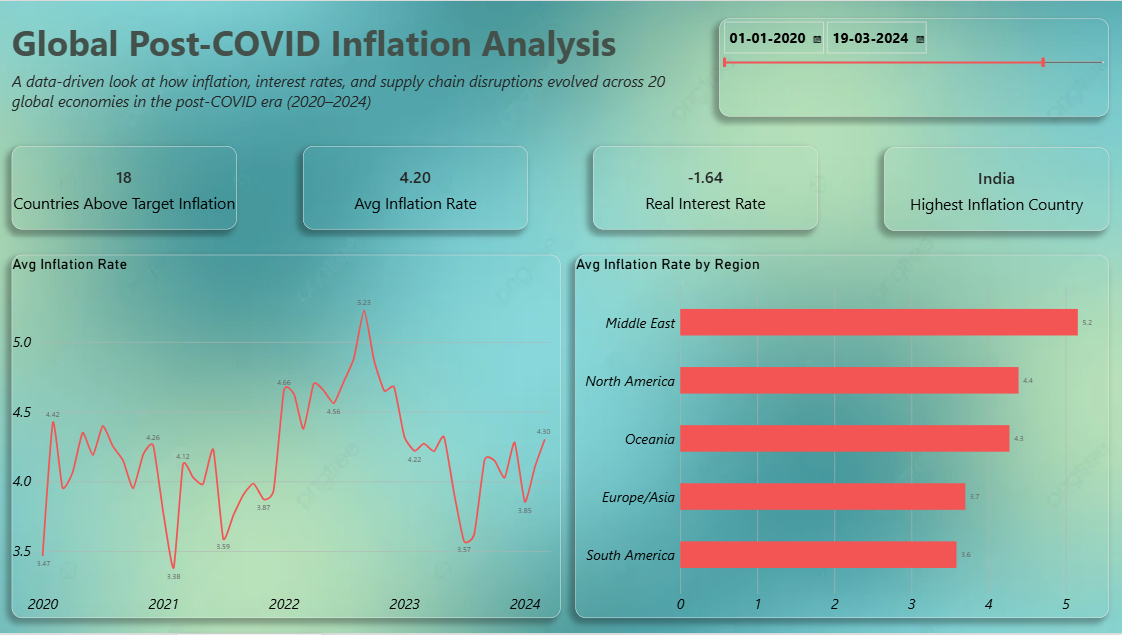

The page's visual inventory and layout, read from the dashboard file:
{"tool":"powerbi","page":{"name":"Executive Summary","canvas":[1920,1080],"ordinal":0},"visuals":[{"type":"textbox","title":"Global Post-COVID Inflation Analysis","box":[23.3,29.1,1320.7,87.3],"z":0},{"type":"slicer","fields":{"Values":["Dim_Date.Date"]},"box":[1230,30,665,167.5],"z":1000},{"type":"card","fields":{"Values":["_Measures.Avg Inflation Rate"]},"box":[519.8,247.3,384,142.5],"z":2000},{"type":"card","fields":{"Values":["_Measures.Highest Inflation Country"]},"box":[1512.7,250.2,384,142.5],"z":3000},{"type":"card","fields":{"Values":["_Measures.Real Interest Rate"]},"box":[1016.2,247.3,384,142.5],"z":4000},{"type":"card","fields":{"Values":["_Measures.Countries Above Target Inflation"]},"box":[23.3,247.3,384,142.5],"z":5000},{"type":"lineChart","title":"Avg Inflation Rate","fields":{"Category":["Dim_Date.Date"],"Y":["_Measures.Avg Inflation Rate"]},"box":[23.3,433.5,936.7,619.6],"z":6000},{"type":"clusteredBarChart","fields":{"Category":["Dim_Country.Region"],"Y":["_Measures.Avg Inflation Rate"]},"box":[986.2,433.5,910.5,619.6],"z":7000},{"type":"textbox","box":[23.5,117.3,1184,81.1],"z":8000}]}

Visuals, with their boxes in screenshot pixels (x1, y1, x2, y2), scaled from the page's 1920x1080 canvas onto the 1122x635 screenshot:
"Global Post-COVID Inflation Analysis" textbox: (left=14, top=17, right=785, bottom=68)
slicer - Dim_Date.Date: (left=719, top=18, right=1107, bottom=116)
card - _Measures.Avg Inflation Rate: (left=304, top=145, right=528, bottom=229)
card - _Measures.Highest Inflation Country: (left=884, top=147, right=1108, bottom=231)
card - _Measures.Real Interest Rate: (left=594, top=145, right=818, bottom=229)
card - _Measures.Countries Above Target Inflation: (left=14, top=145, right=238, bottom=229)
"Avg Inflation Rate" lineChart: (left=14, top=255, right=561, bottom=619)
clusteredBarChart - Dim_Country.Region x _Measures.Avg Inflation Rate: (left=576, top=255, right=1108, bottom=619)
textbox: (left=14, top=69, right=706, bottom=117)
